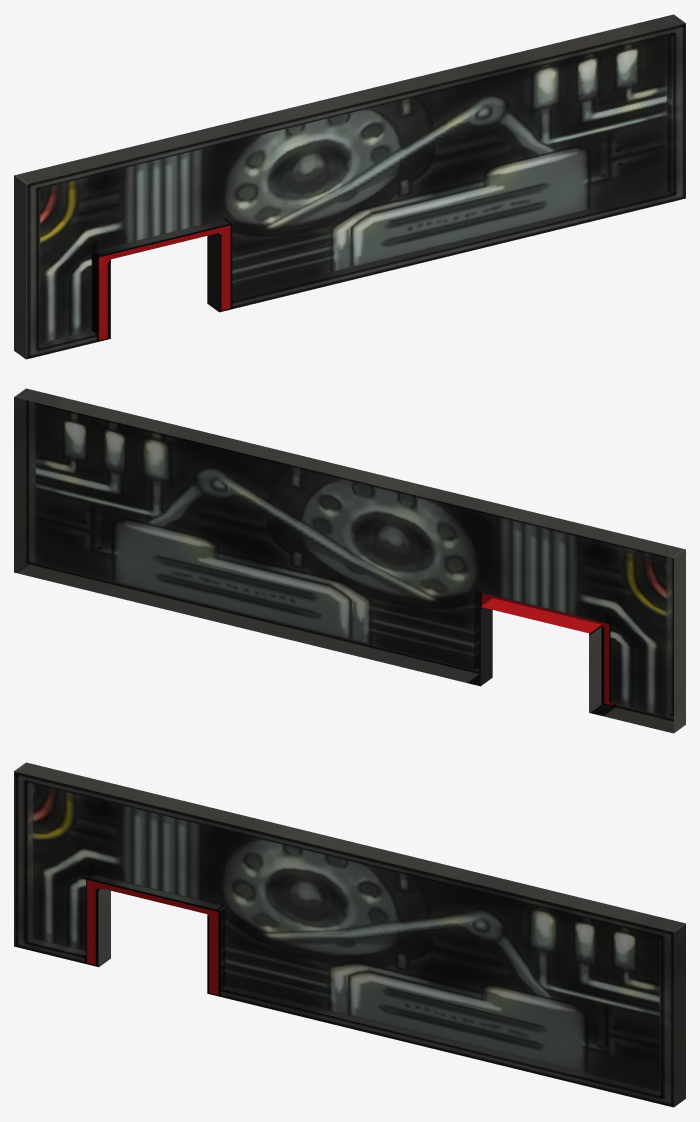
Rendered from NONE_LEFT.fbx.
3 renders of one model, top to bottom at view 1: azimuth 30°, elevation 25°; view 2: azimuth 150°, elevation 25°; view 3: azimuth 330°, elevation 25°, orthographic.
Parts seen in each view (by area): view 1: wall8; view 2: wall8; view 3: wall8.
Boxes of the visible parts, left/top/right/bottom form: wall8: left=14, top=14, right=685, bottom=359; wall8: left=14, top=388, right=685, bottom=733; wall8: left=14, top=762, right=685, bottom=1107.
Bounding box in the file's own units: 40.08 × 10.17 × 1.27.
1 material, 1 textured.
